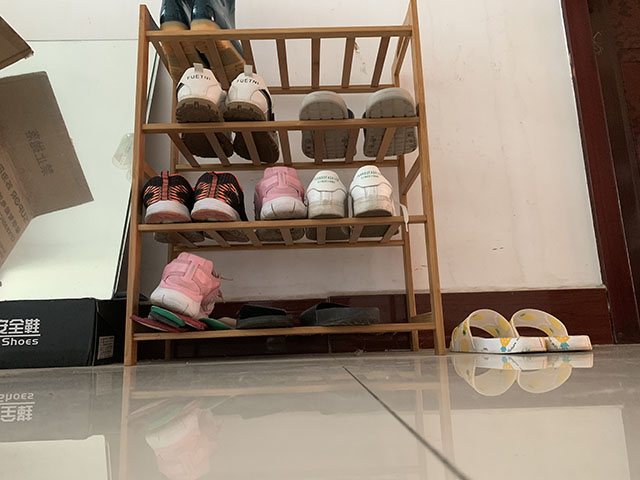slippers: (448, 309, 544, 357), (512, 309, 592, 353)
